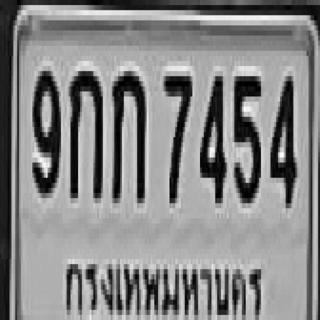A01: (110, 66, 144, 198), (68, 66, 101, 198)
N04: (269, 71, 295, 203), (198, 71, 225, 198)
N05: (232, 71, 259, 198)
N07: (162, 71, 190, 198)
N09: (30, 66, 59, 193)
P04: (57, 244, 268, 320)
